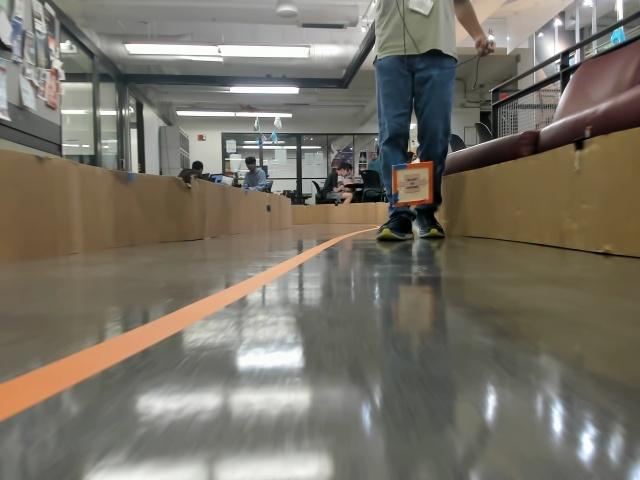Do Not Go Around: (397, 176, 425, 194)
